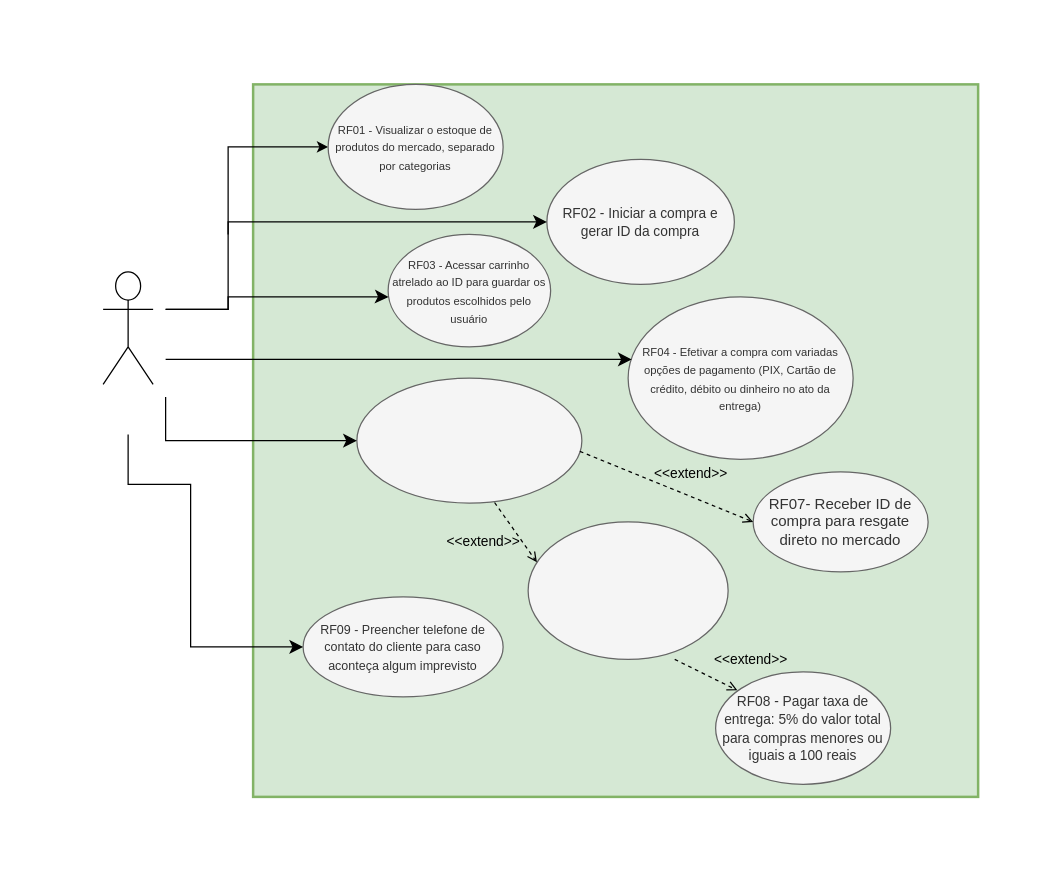
The diagram is 1046 pixels wide and 894 high, and some of its shapes have lost their labels. The centre of each missing label's shape, as x and y in pixels:
"Cliente" goes at [127,327].
"RF05 - Preencher forma de entrega (Em domicílio ou resgate direto no mercado)" goes at [469,440].
"RF06 - Preencher endereço do cliente caso seja entrega em domicílio" goes at [627,590].
